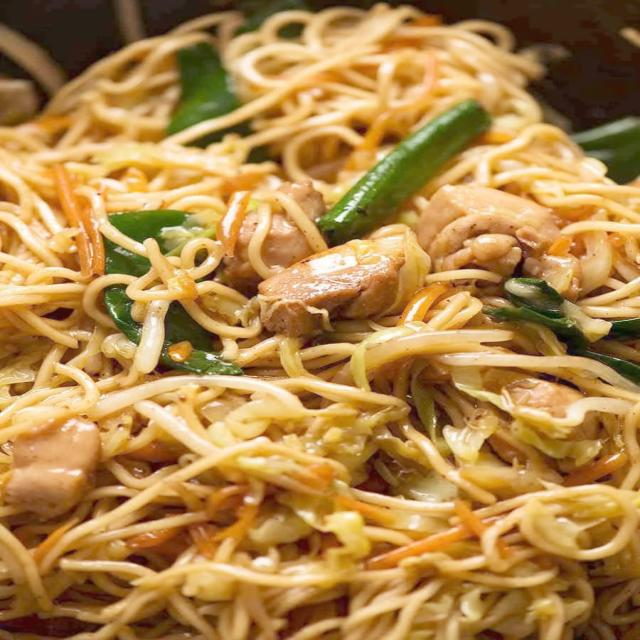Chow Mein: (5, 11, 636, 639)
